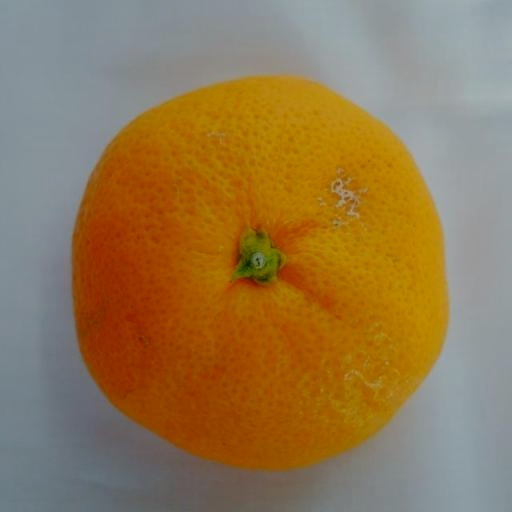fruit: (416, 127, 480, 449)
